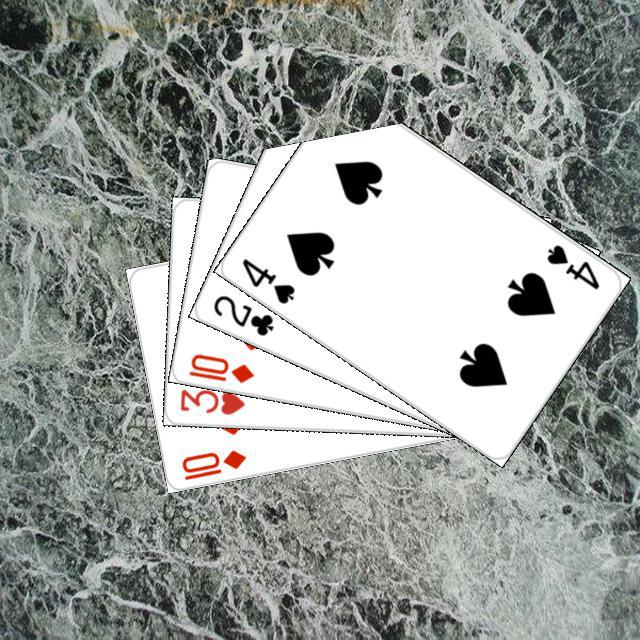10d: (176, 445, 248, 482), (184, 349, 256, 385)
2c: (208, 290, 276, 338)
3h: (175, 384, 247, 416)
4s: (541, 239, 602, 292), (237, 253, 297, 306)
